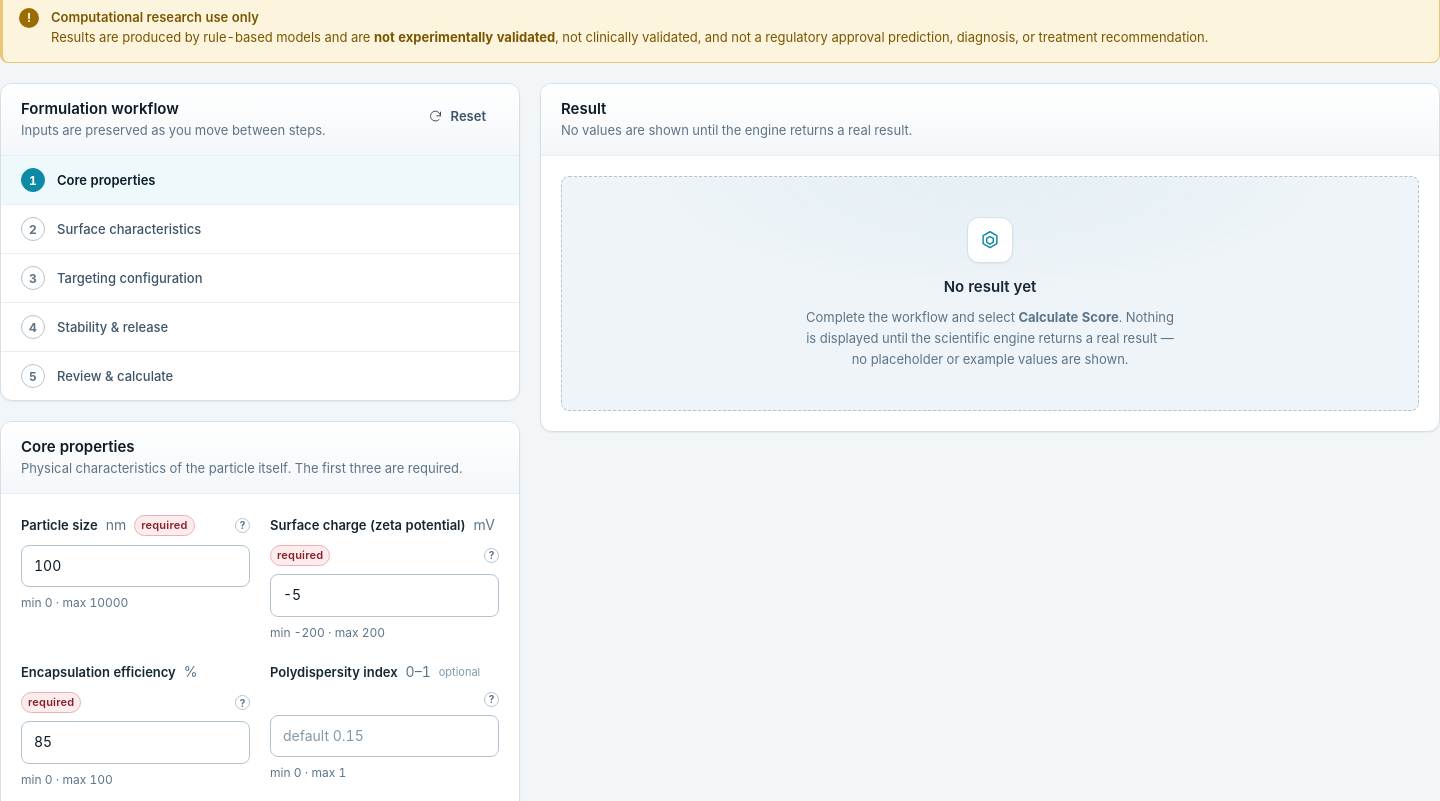
Test case: validation › blocks progress and reports an invalid size
Replace the text in the field labelled "Particle size" with "-5" at [136, 566], box [21,545,250,587]
(page scrolled)
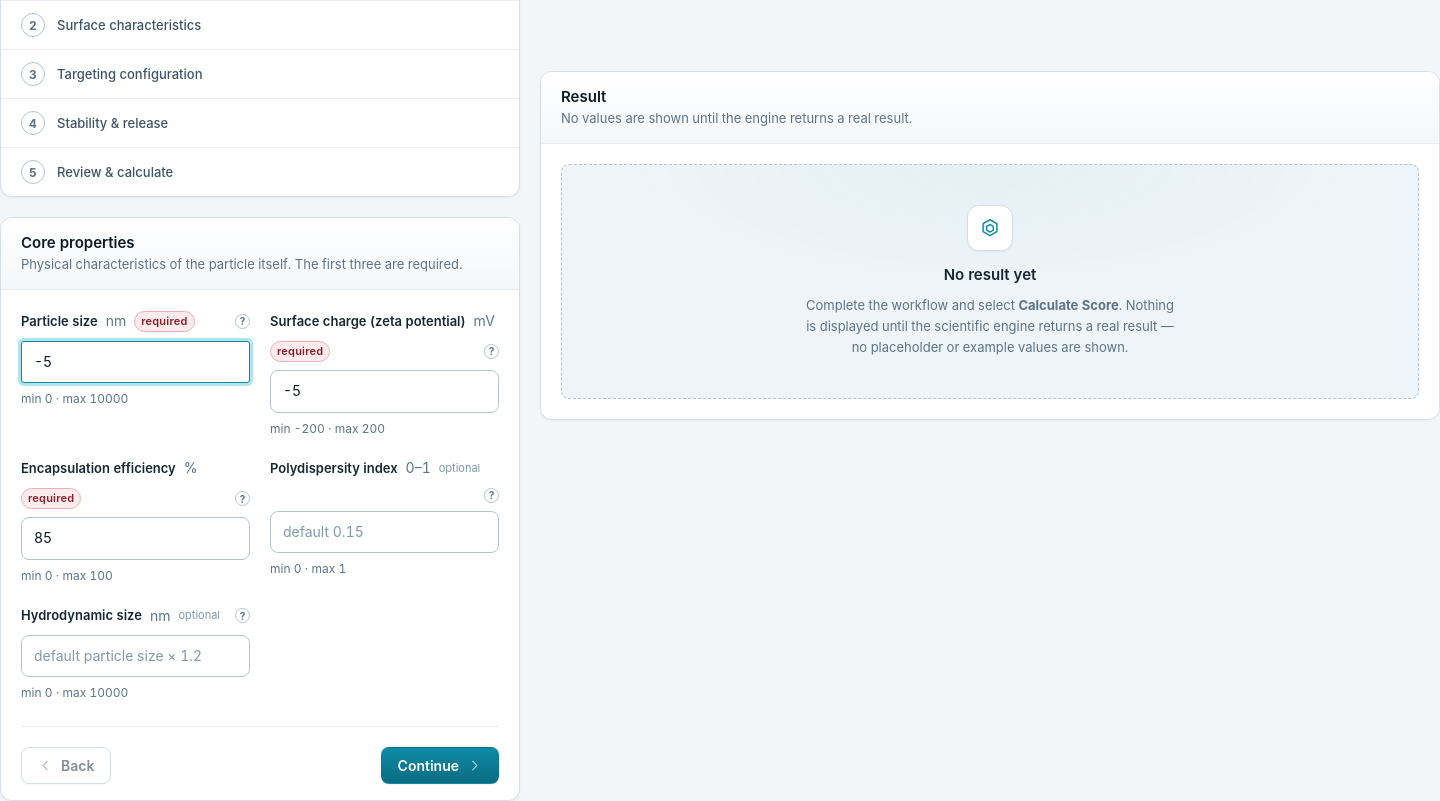
Click the button "Continue" at [440, 766], box [381,747,499,784]
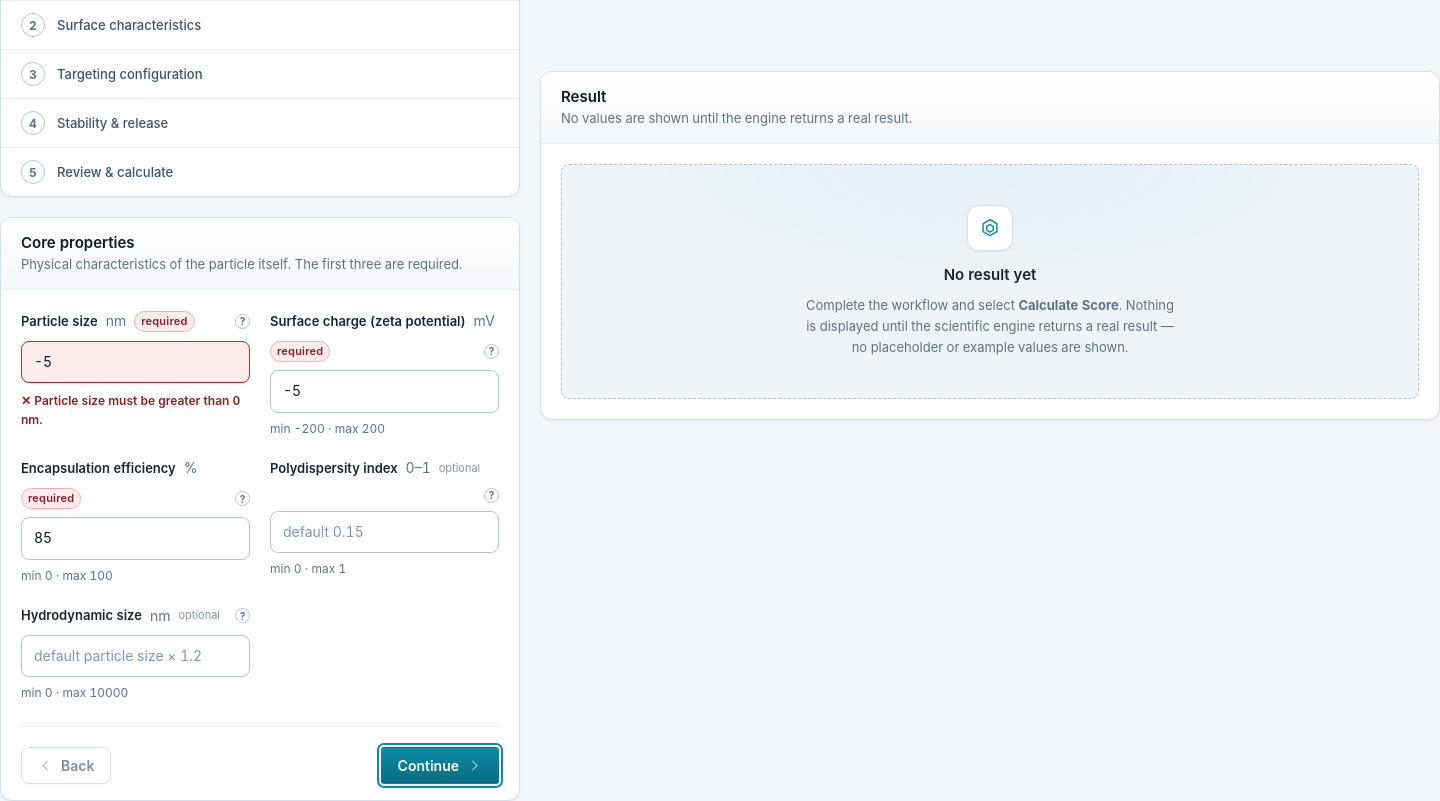
Expected: the heading "Core properties" is shown, [21,233,135,252]
Expected: the text "✕ Particle size must be greater than 0 nm." is shown, [21,391,250,429]
